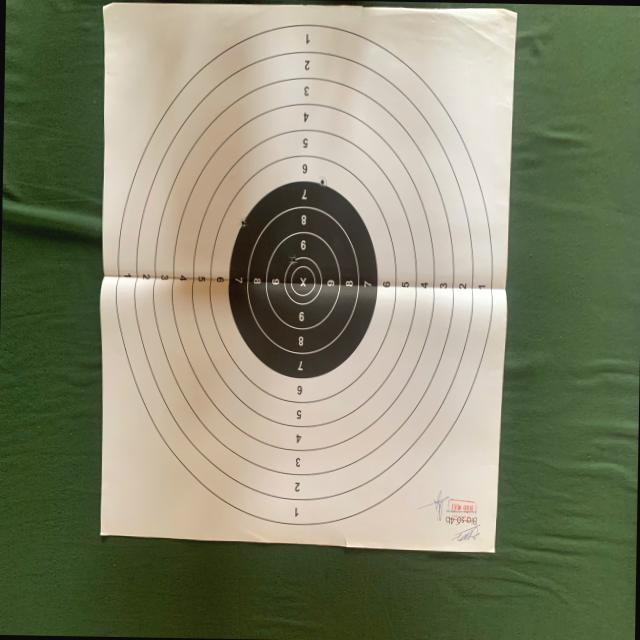bullet: (240, 220, 246, 226), (319, 177, 324, 184), (291, 256, 296, 262)
target: (100, 3, 515, 551)
